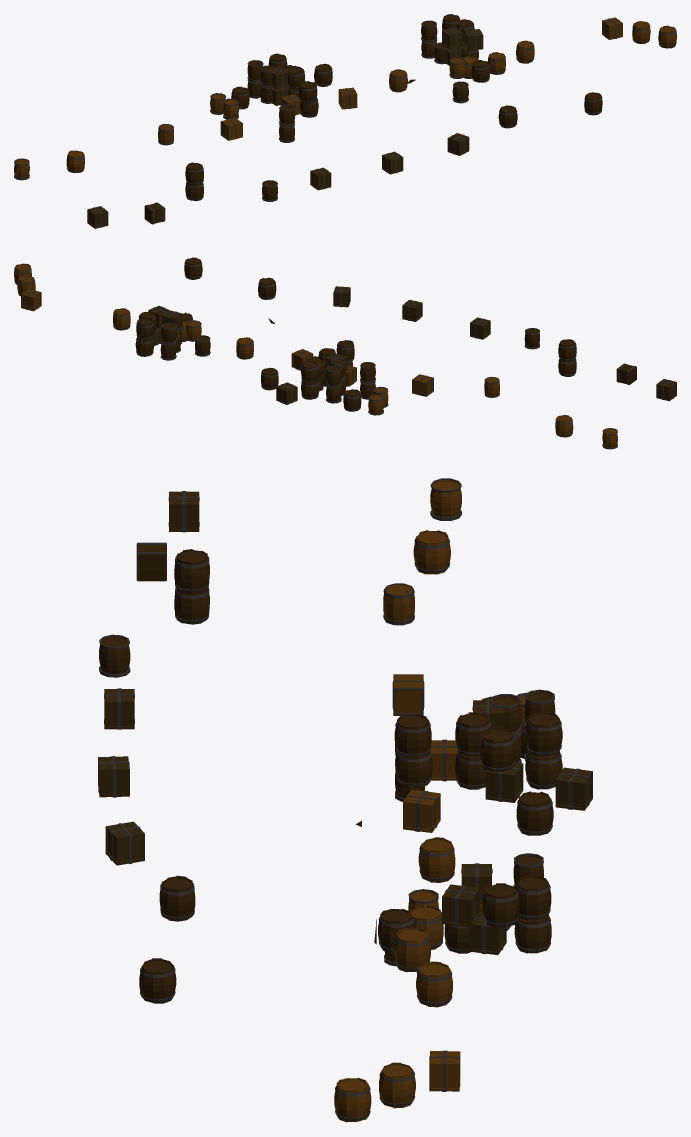
File: DogLevelPathBarrels.glb
3 views of the same model, one above another, from view 1: azimuth 30°, elevation 25°; view 2: azimuth 150°, elevation 25°; view 3: azimuth 270°, elevation 25° (orthographic). The views are drawn at different scales.
Visible parts, largest first — view 1: Wooden Crate 3.268; view 2: Wooden Crate 3.268; view 3: Wooden Crate 3.268.
Boxes of the visible parts, x1,y1,x2,y2 form: Wooden Crate 3.268: [14, 14, 676, 228]; Wooden Crate 3.268: [14, 257, 676, 449]; Wooden Crate 3.268: [98, 478, 592, 1122].
Size of the model in its own units: 23.81 by 1.85 by 8.17.
